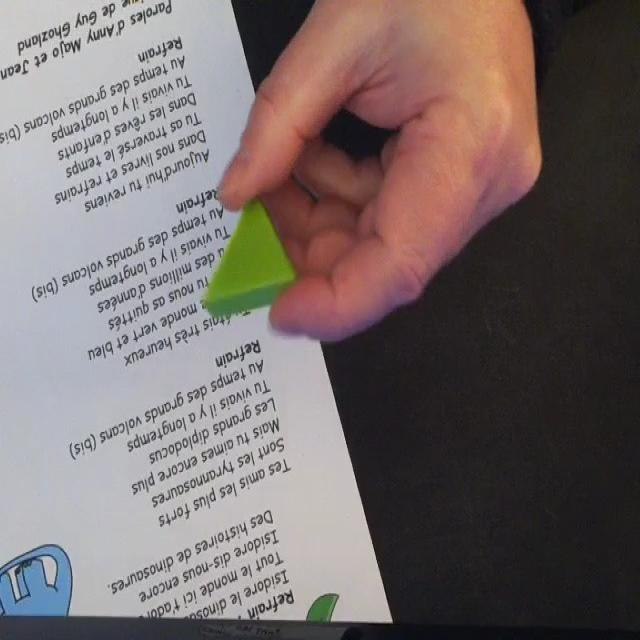triangle: (203, 188, 298, 328)
